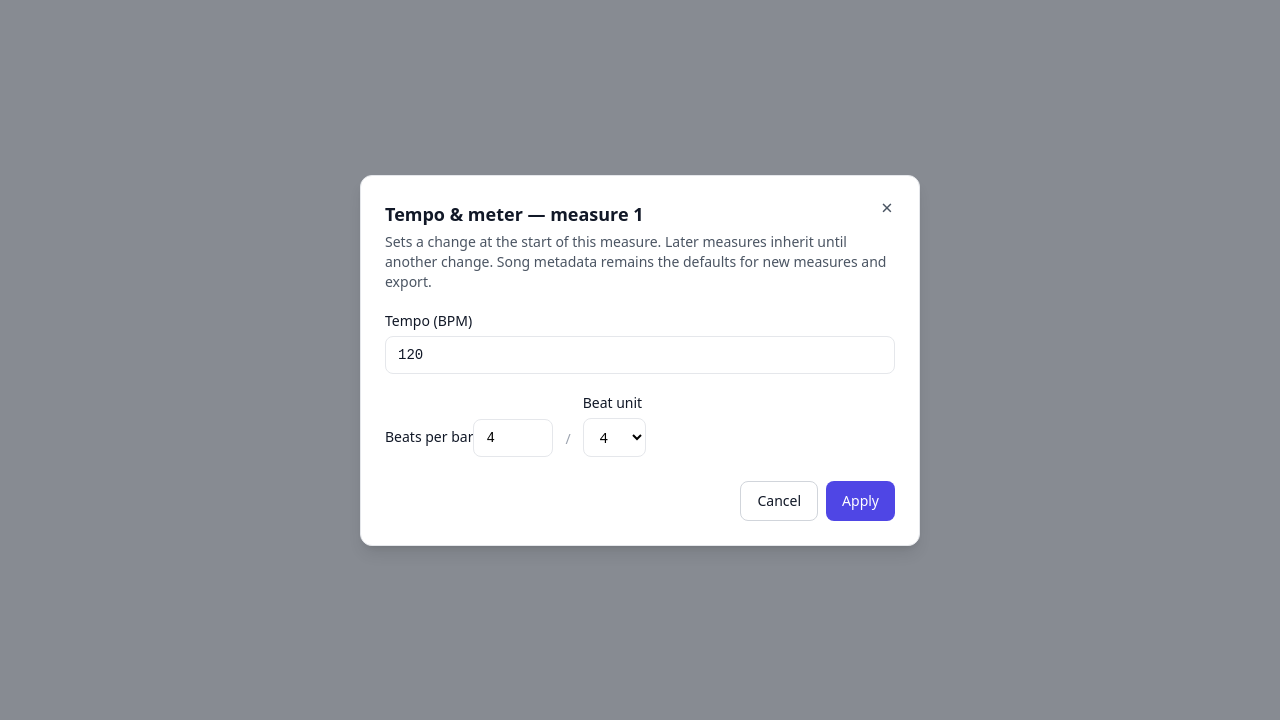
TempoMeterAtMeasureDialog — TASK-5.6 › shows error and does not apply when tempo is out of range
Replace the text in the number field labelled "Tempo (BPM)" with "10" at (640, 354), box [385,336,895,374]
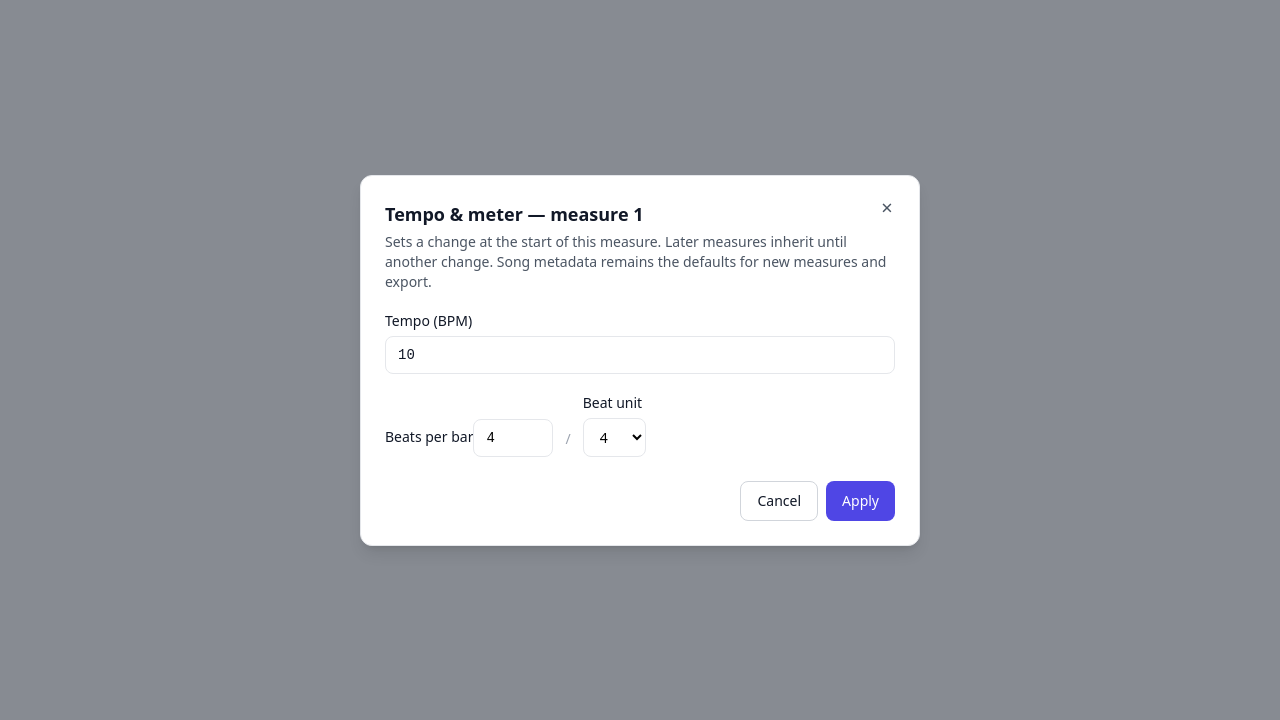
Click the button "Apply" at (861, 500), box [826,480,895,520]
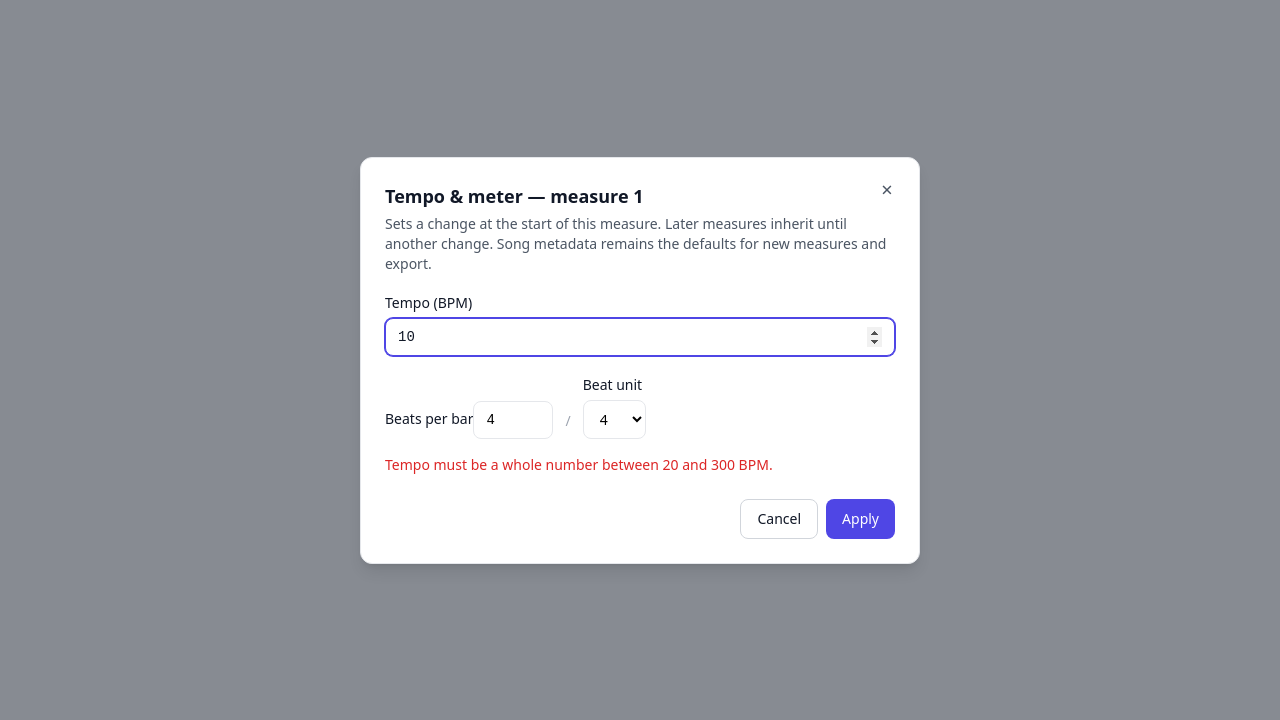
Check: the message "Tempo must be a whole number between 20 and 300 BPM." is shown, box [385,454,773,474]
